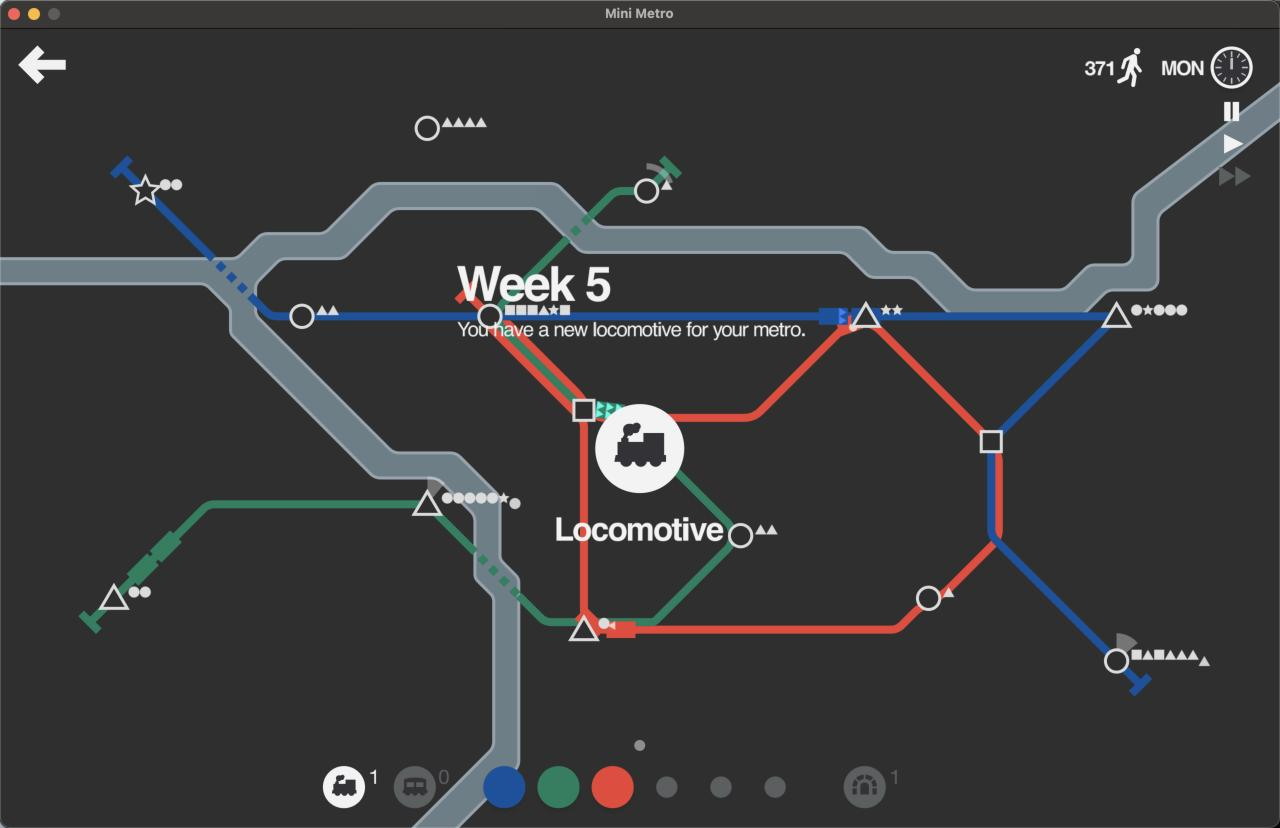CIRCLE: (632, 177, 660, 205), (477, 302, 504, 331), (915, 585, 942, 612), (414, 115, 441, 142), (289, 303, 315, 330), (1104, 647, 1130, 674), (728, 522, 753, 548)
SQUARE: (571, 398, 596, 422), (979, 429, 1003, 453)
STAR: (129, 174, 161, 205)
TRIANGLE: (96, 581, 131, 613), (411, 487, 445, 517), (567, 613, 601, 643), (850, 300, 882, 330), (1102, 300, 1132, 328)
